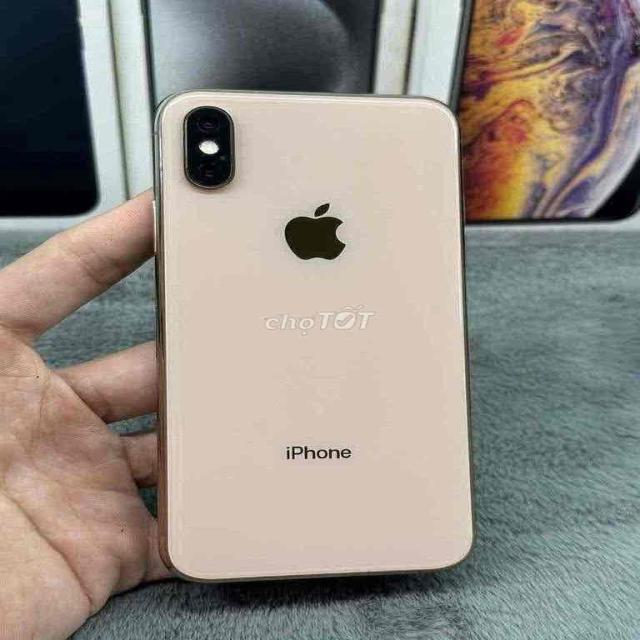gen_x_xs: (120, 85, 516, 598)
